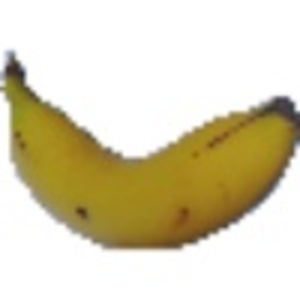banana: (1, 39, 297, 255)
